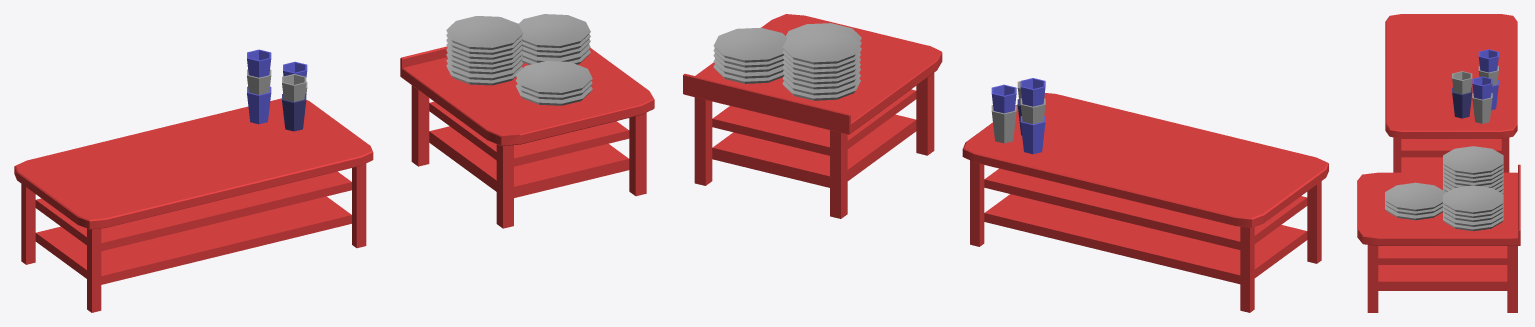
The model's file is Obj_Objetos_de_Pared_3.fbx.
The picture shows the model from 3 angles, left to right: view 1: azimuth 30°, elevation 25°; view 2: azimuth 150°, elevation 25°; view 3: azimuth 270°, elevation 25°; orthographic projection. The views are drawn at different scales.
Parts seen in each view (by area): view 1: Objetos_de_Pared_3; view 2: Objetos_de_Pared_3; view 3: Objetos_de_Pared_3.
Boxes of the visible parts, x1=… form: Objetos_de_Pared_3: x1=14, y1=14, x2=654, y2=312; Objetos_de_Pared_3: x1=683, y1=14, x2=1328, y2=312; Objetos_de_Pared_3: x1=1357, y1=14, x2=1520, y2=312.
Size of the model in its own units: 14.92 by 4.11 by 4.59.
